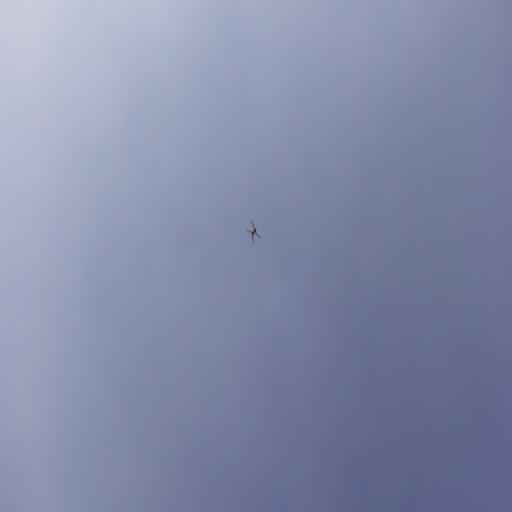drones: (246, 218, 262, 246)
